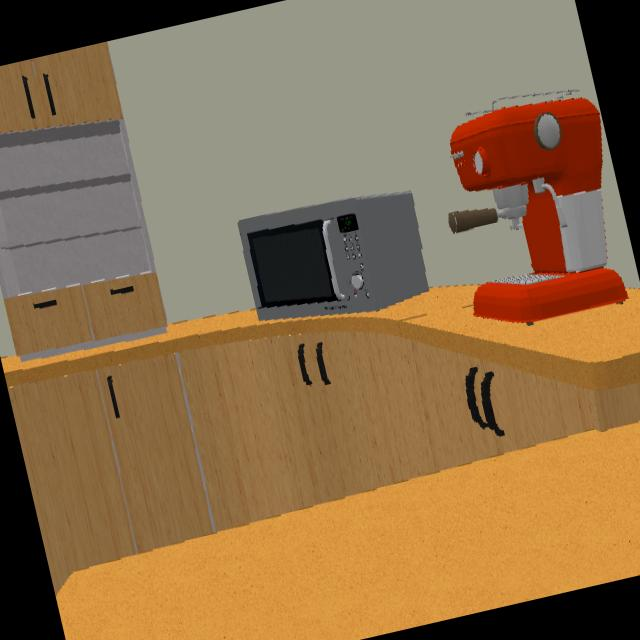cabinet: (7, 329, 640, 591), (0, 42, 165, 355)
countertop: (56, 420, 640, 640), (1, 285, 640, 394)
microwave: (238, 192, 429, 319)
